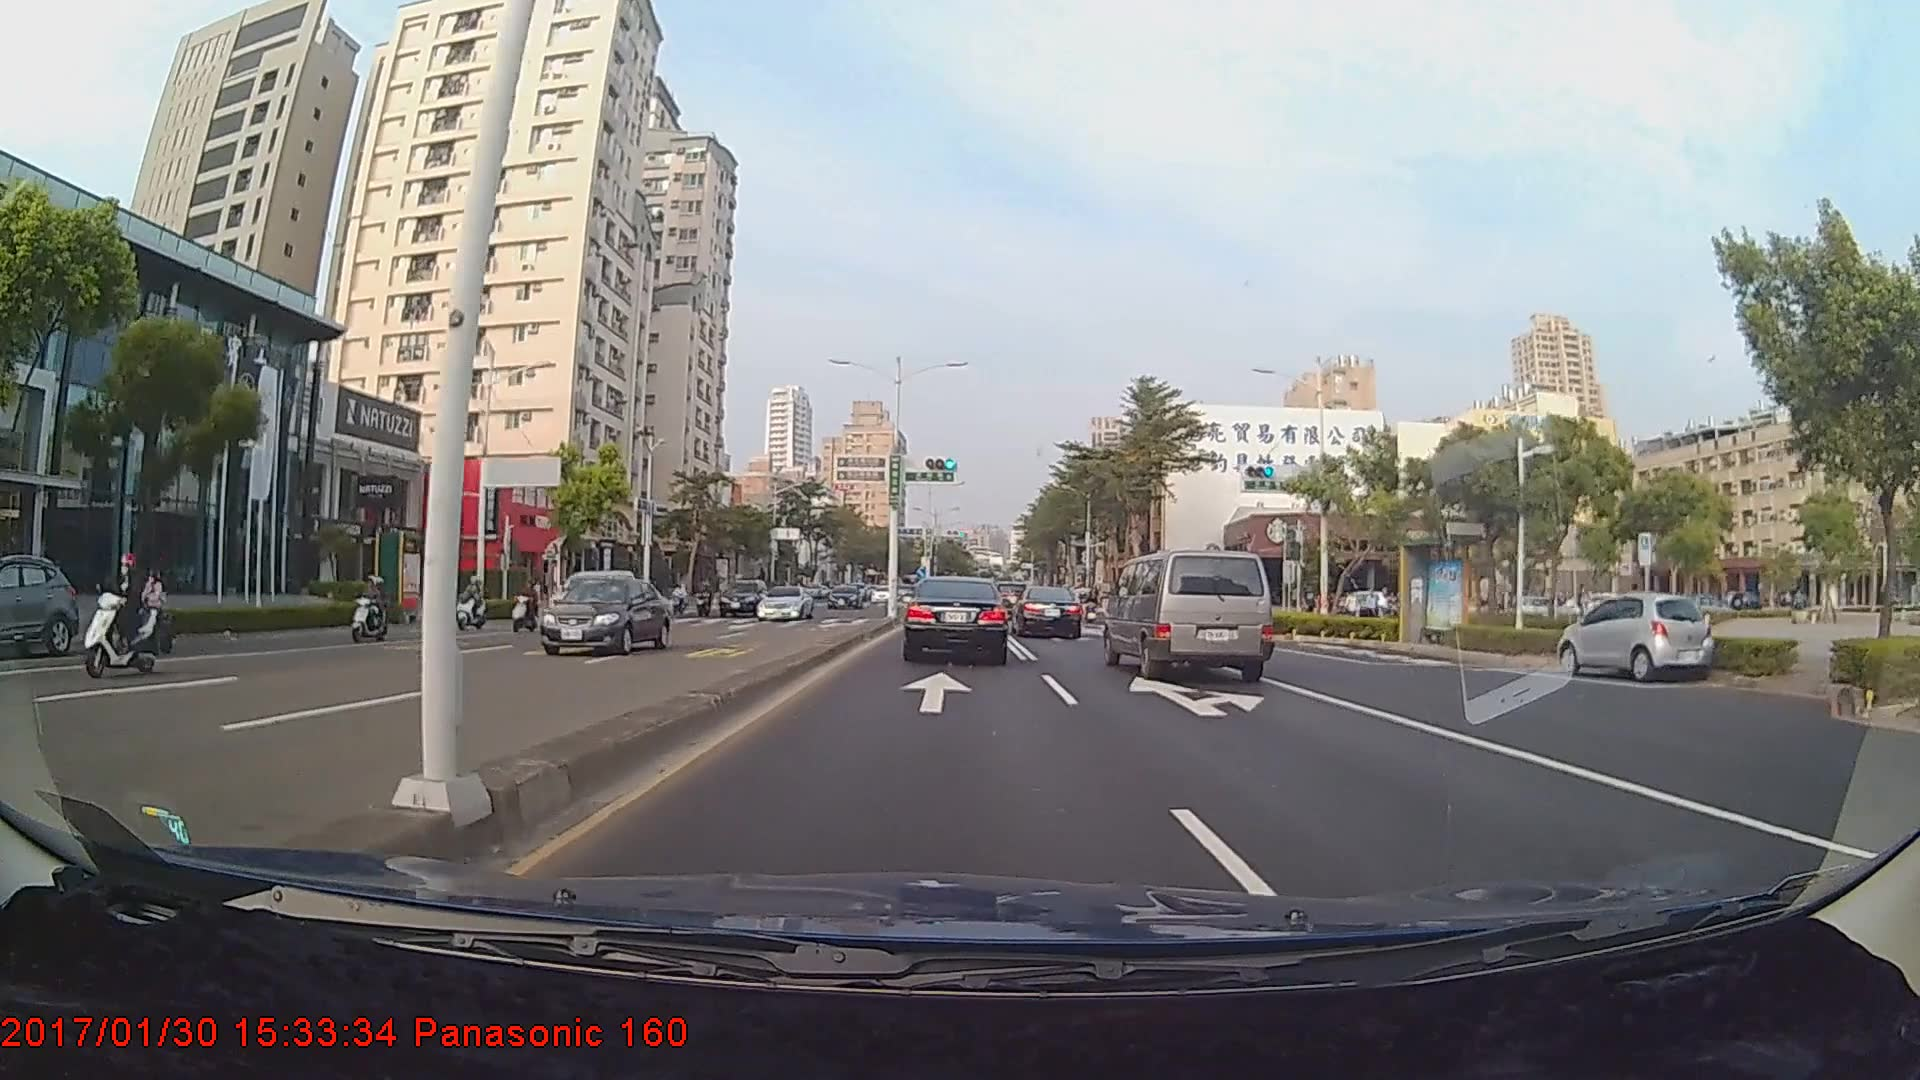rider: (80, 548, 163, 687), (118, 573, 183, 658), (343, 576, 394, 644), (507, 578, 542, 638), (455, 573, 491, 633)
vehicle: (1103, 540, 1277, 690), (1563, 590, 1710, 681), (539, 578, 675, 658), (903, 576, 1007, 662), (0, 564, 84, 651), (540, 570, 638, 629), (1009, 585, 1083, 638), (752, 584, 813, 621), (716, 578, 767, 617), (826, 582, 870, 612)
